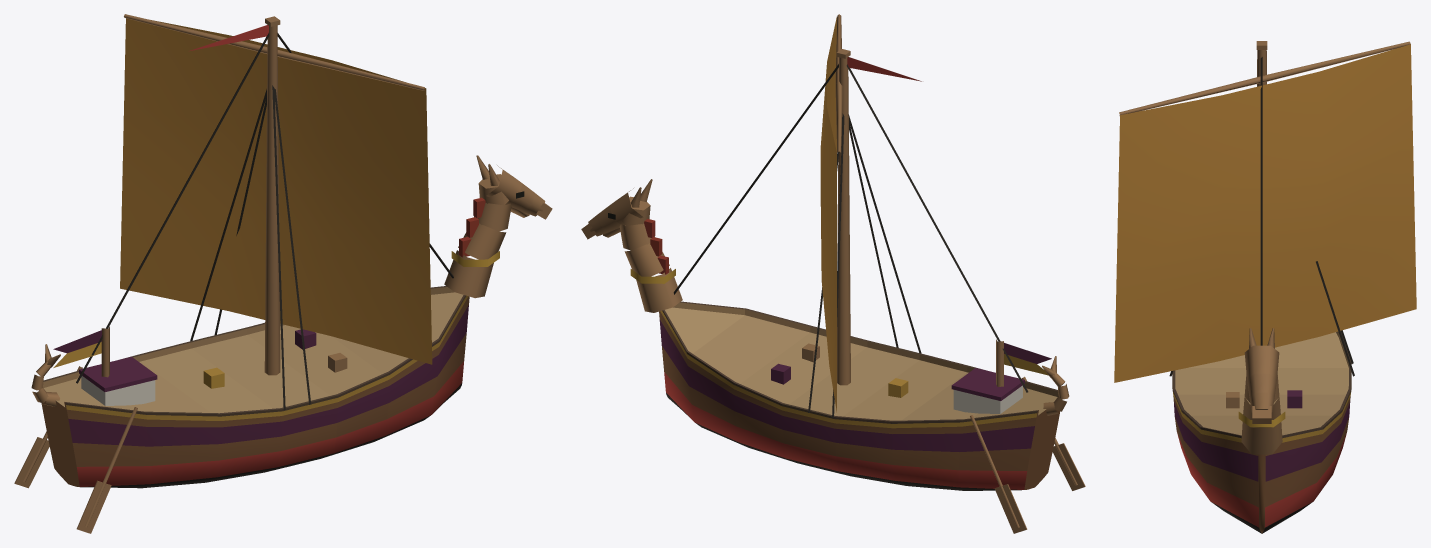
The model's file is hull_fiat_hippos_medium.glb.
The picture shows the model from 3 angles, left to right: view 1: azimuth 30°, elevation 25°; view 2: azimuth 150°, elevation 25°; view 3: azimuth 270°, elevation 25°; orthographic projection. The views are drawn at different scales.
Visible parts, largest first — view 1: sail_main, hull, deck, mast, rigging, yards, flag; view 2: hull, deck, sail_main, mast, rigging, flag, yards; view 3: sail_main, hull, yards, rigging, deck, mast.
Boxes of the visible parts, x1,y1,x2,y2 form: sail_main: (120,18,432,364); hull: (31,155,552,488); deck: (14,329,347,533); mast: (101,16,280,377); rigging: (76,32,453,409); yards: (124,14,424,90); flag: (53,25,268,367); hull: (581,179,1069,490); deck: (771,343,1085,533); sail_main: (820,17,836,412); mast: (836,49,1003,386); rigging: (673,64,1028,417); flag: (847,57,1051,375); yards: (835,14,842,152); sail_main: (1114,44,1416,382); hull: (1172,328,1351,533); yards: (1119,41,1410,115); rigging: (1169,57,1354,376); deck: (1226,390,1302,408); mast: (1256,41,1267,86).
Size of the model in its own units: 16.06 by 13.09 by 8.43.
